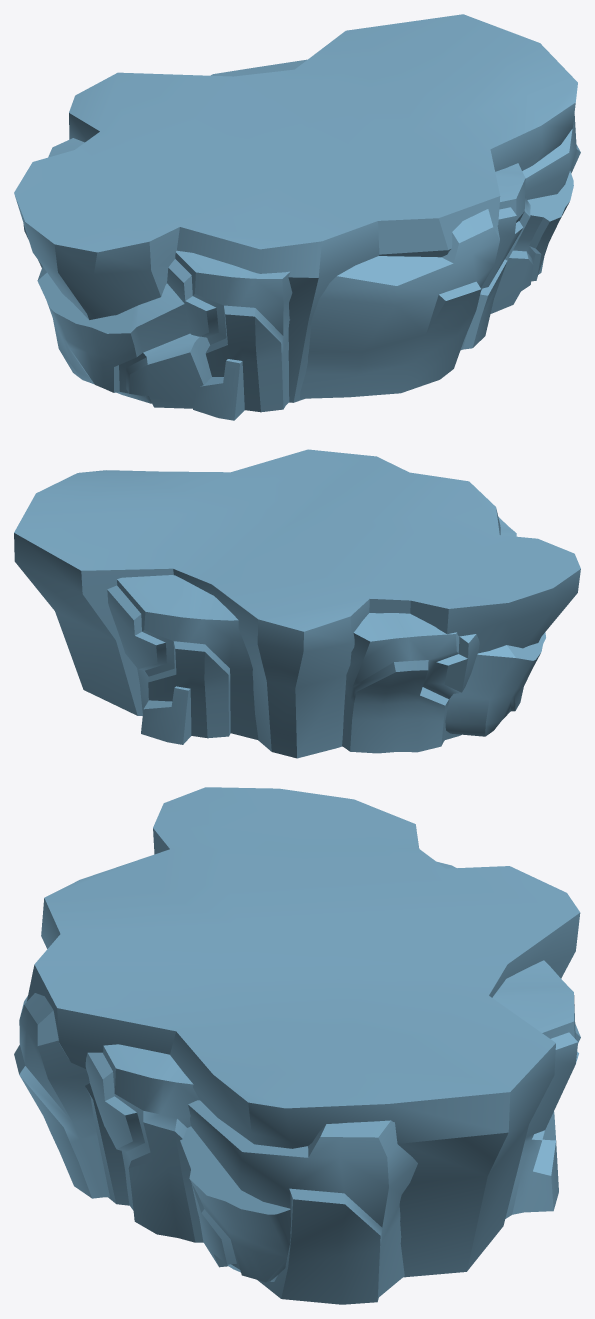
Rendered from ice.glb.
3 renders of one model, top to bottom at view 1: azimuth 30°, elevation 25°; view 2: azimuth 150°, elevation 25°; view 3: azimuth 270°, elevation 25°, orthographic. The views are drawn at different scales.
Parts seen in each view (by area): view 1: IcePlatform-col; view 2: IcePlatform-col; view 3: IcePlatform-col.
Boxes of the visible parts, bbox=[...] form: IcePlatform-col: bbox=[14, 14, 580, 420]; IcePlatform-col: bbox=[14, 449, 580, 758]; IcePlatform-col: bbox=[14, 787, 580, 1304].
Size of the model in its own units: 16.28 by 5.05 by 11.73.
Materials: 1 (1 with a texture image).
